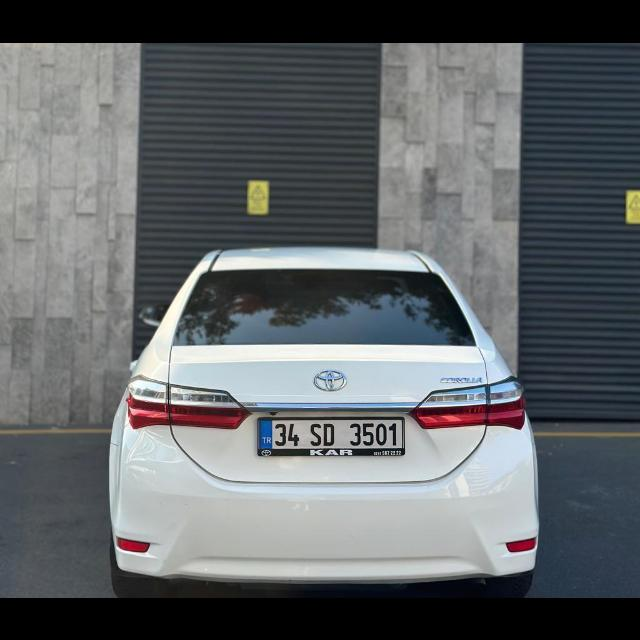Plaka: (258, 418, 404, 448)
